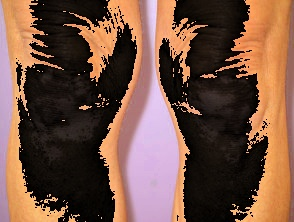vitiligo: (1, 0, 142, 222), (154, 0, 294, 222)
